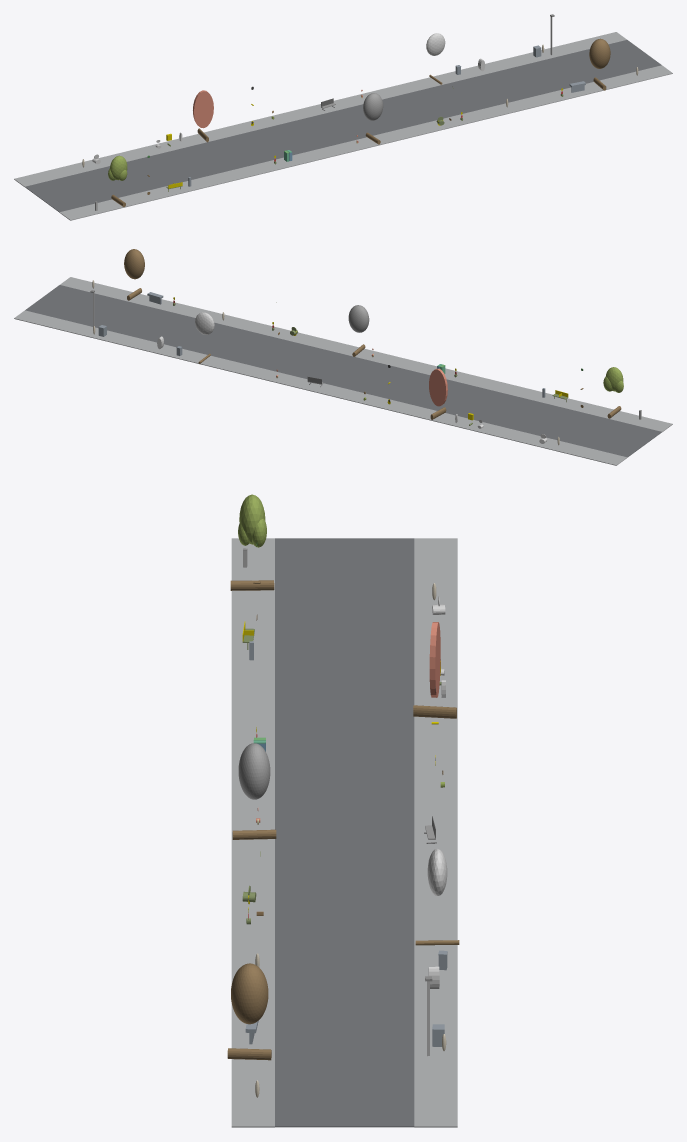
3 views of the same model, one above another, from view 1: azimuth 30°, elevation 25°; view 2: azimuth 150°, elevation 25°; view 3: azimuth 270°, elevation 25° (orthographic). The views are drawn at different scales.
Parts seen in each view (by area): view 1: road_slab, sidewalk_left, sidewalk_right, inst_0013, inst_0016, inst_0014, inst_0012, inst_0015; view 2: road_slab, sidewalk_right, sidewalk_left, inst_0013, inst_0016, inst_0014, inst_0012, inst_0015; view 3: road_slab, sidewalk_right, sidewalk_left, inst_0016, inst_0014, inst_0012, inst_0013, inst_0015.
Boxes of the visible parts, <box> form: road_slab: <box>25,40,661,212</box>; sidewalk_left: <box>59,65,672,220</box>; sidewalk_right: <box>14,32,626,186</box>; inst_0013: <box>193,90,213,142</box>; inst_0016: <box>589,38,610,90</box>; inst_0014: <box>363,93,383,144</box>; inst_0012: <box>108,155,127,207</box>; inst_0015: <box>426,33,445,84</box>; road_slab: <box>25,285,661,457</box>; sidewalk_right: <box>14,310,627,465</box>; sidewalk_left: <box>60,277,672,432</box>; inst_0013: <box>429,368,447,419</box>; inst_0016: <box>124,249,144,300</box>; inst_0014: <box>348,305,369,356</box>; inst_0012: <box>603,367,623,418</box>; inst_0015: <box>195,312,214,363</box>; road_slab: <box>275,538,414,1127</box>; sidewalk_right: <box>414,538,457,1127</box>; sidewalk_left: <box>231,538,274,1127</box>; inst_0016: <box>227,963,271,1060</box>; inst_0014: <box>232,743,276,839</box>; inst_0012: <box>230,494,274,590</box>; inst_0013: <box>413,622,456,718</box>; inst_0015: <box>415,848,459,945</box>.
Bounding box in the file's own units: 80 × 6.08 × 13.32.
